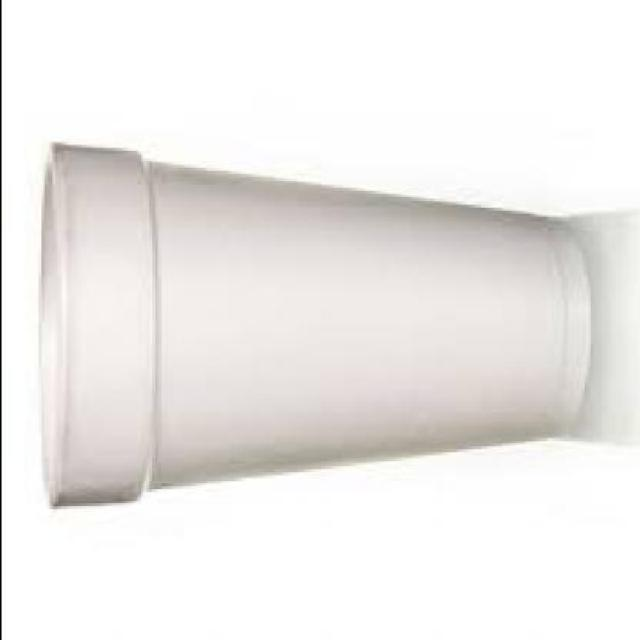PAPER: (37, 146, 594, 508)
